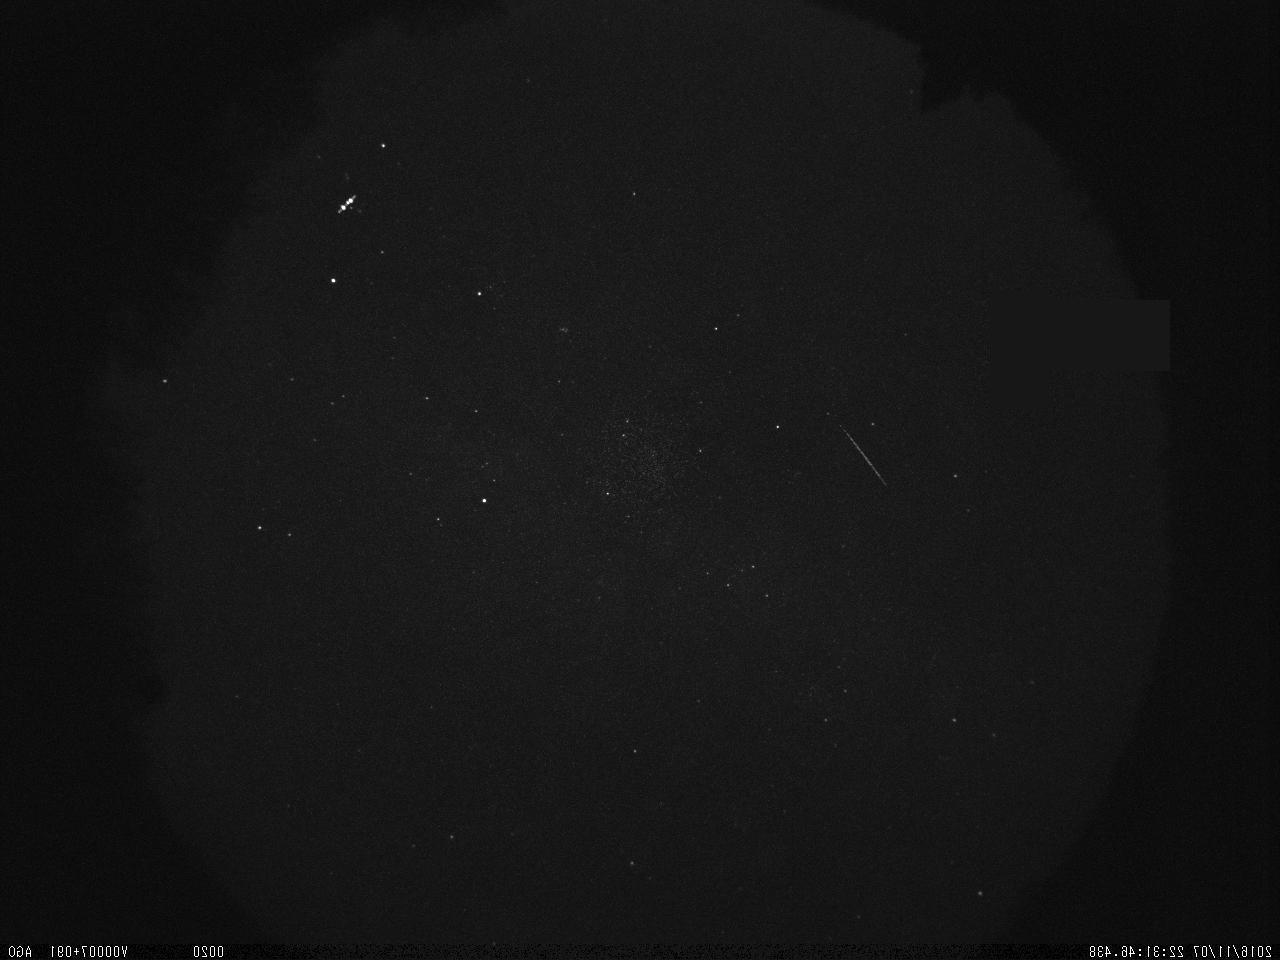meteor: (824, 422, 891, 491)
satelite: (336, 188, 362, 219)
